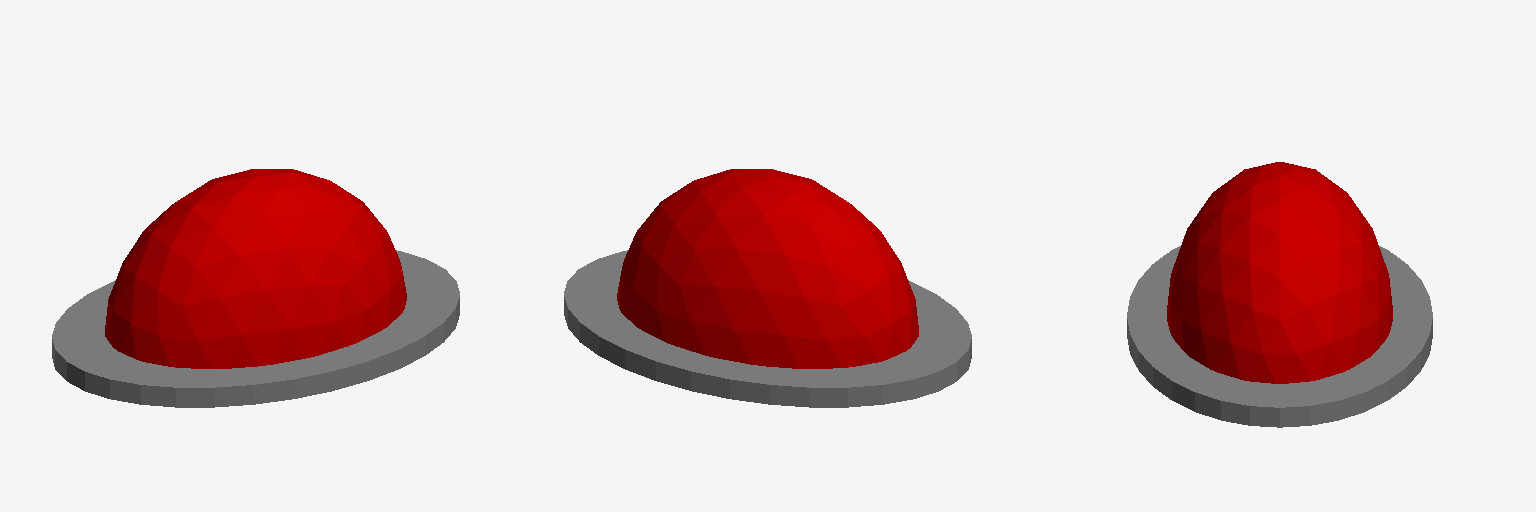
File: emergency_lamp.obj
3 renders of one model, left to right at view 1: azimuth 30°, elevation 25°; view 2: azimuth 150°, elevation 25°; view 3: azimuth 270°, elevation 25°, orthographic.
Parts seen in each view (by area): view 1: Icosphere, Cylinder; view 2: Icosphere, Cylinder; view 3: Icosphere, Cylinder.
Boxes of the visible parts, x1=… form: Icosphere: x1=105, y1=169, x2=406, y2=368; Cylinder: x1=52, y1=250, x2=459, y2=407; Icosphere: x1=617, y1=169, x2=918, y2=368; Cylinder: x1=564, y1=250, x2=971, y2=407; Icosphere: x1=1167, y1=162, x2=1392, y2=383; Cylinder: x1=1127, y1=246, x2=1432, y2=427.
Bounding box in the file's own units: 0.4 × 0.16 × 0.28.